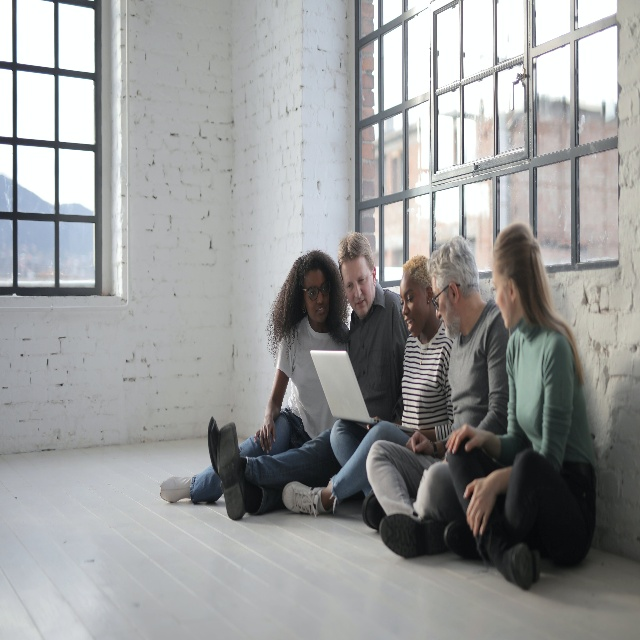Gafas: (431, 286, 451, 308), (307, 285, 330, 302)
Sin_guantes: (461, 475, 499, 541), (444, 424, 489, 455), (253, 418, 275, 454), (406, 431, 433, 455)
